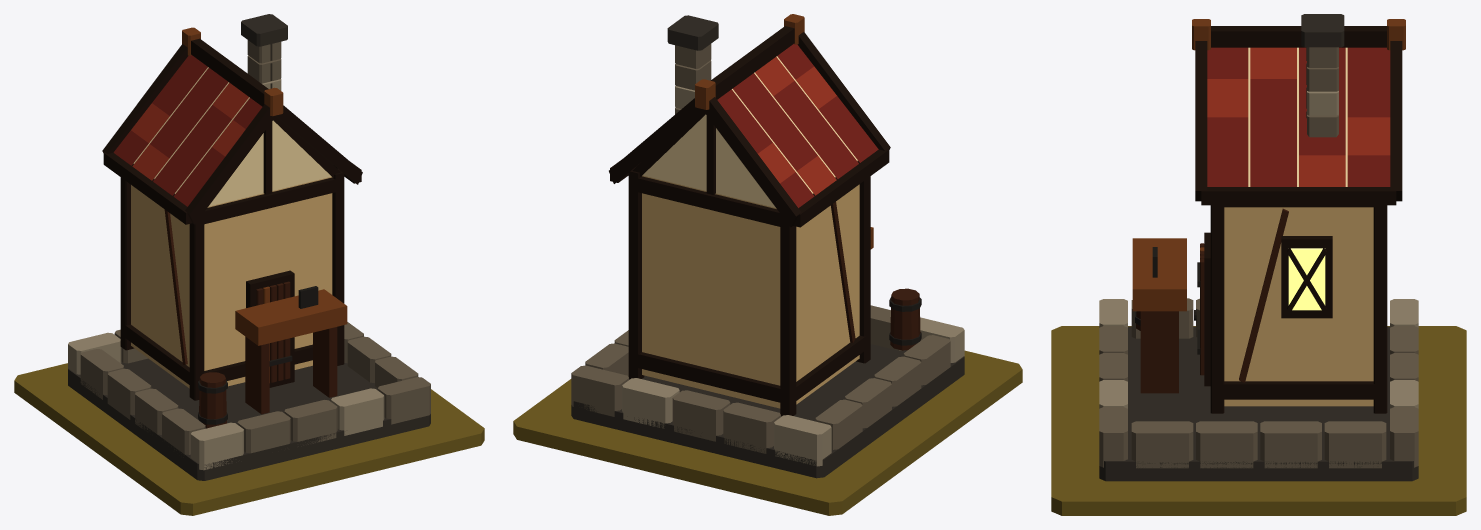
File: butchery_t3.glb
3 views of the same model, side by side, from view 1: azimuth 30°, elevation 25°; view 2: azimuth 150°, elevation 25°; view 3: azimuth 270°, elevation 25° (orthographic). The views are drawn at different scales.
Parts seen in each view (by area): view 1: MMR | butchery | T03 Architecture.001, MMR | butchery | Tier 03 Ground.001; view 2: MMR | butchery | T03 Architecture.001, MMR | butchery | Tier 03 Ground.001; view 3: MMR | butchery | T03 Architecture.001, MMR | butchery | Tier 03 Ground.001.
Boxes of the visible parts, x1,y1,x2,y2 form: MMR | butchery | T03 Architecture.001: (68,14,430,480); MMR | butchery | Tier 03 Ground.001: (14,363,484,515); MMR | butchery | T03 Architecture.001: (571,14,964,478); MMR | butchery | Tier 03 Ground.001: (513,350,1022,515); MMR | butchery | T03 Architecture.001: (1099,14,1418,481); MMR | butchery | Tier 03 Ground.001: (1051,326,1466,515).
Bounding box in the file's own units: 1.3 × 1.48 × 1.3.
Materials: 2 (1 with a texture image).
